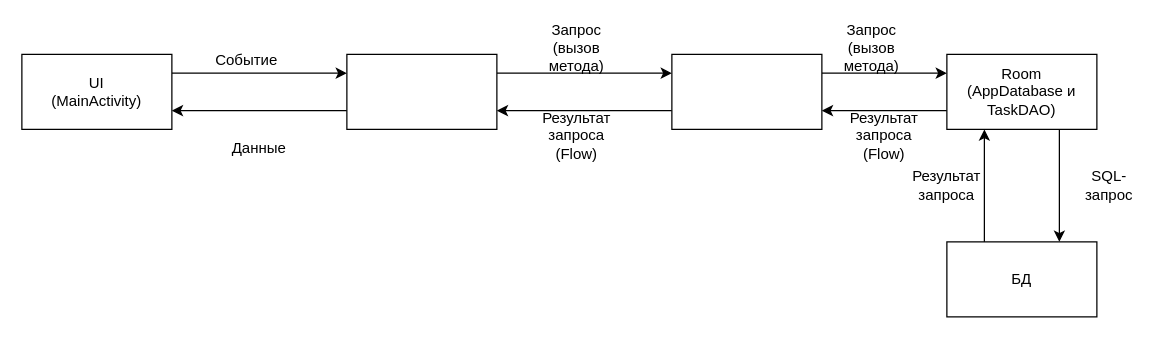
Image size: 1169x339. Some labels were removed from this diagram. Here are the shapes that lost their labels. From the top down, the box of each, then its label:
(346, 53, 497, 129): ViewModel (TaskViewModel)
(671, 53, 822, 129): Repository (TaskRepository)
